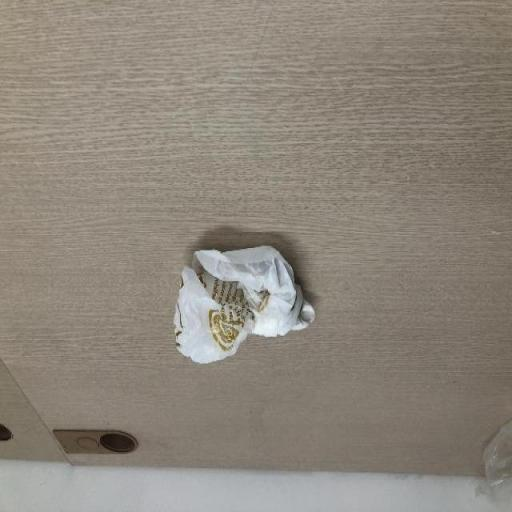plastic-bag: (172, 240, 318, 366)
